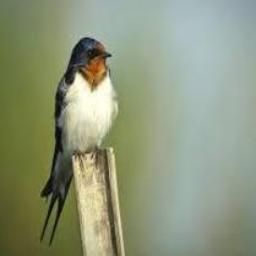Swallow: (38, 38, 119, 247)
